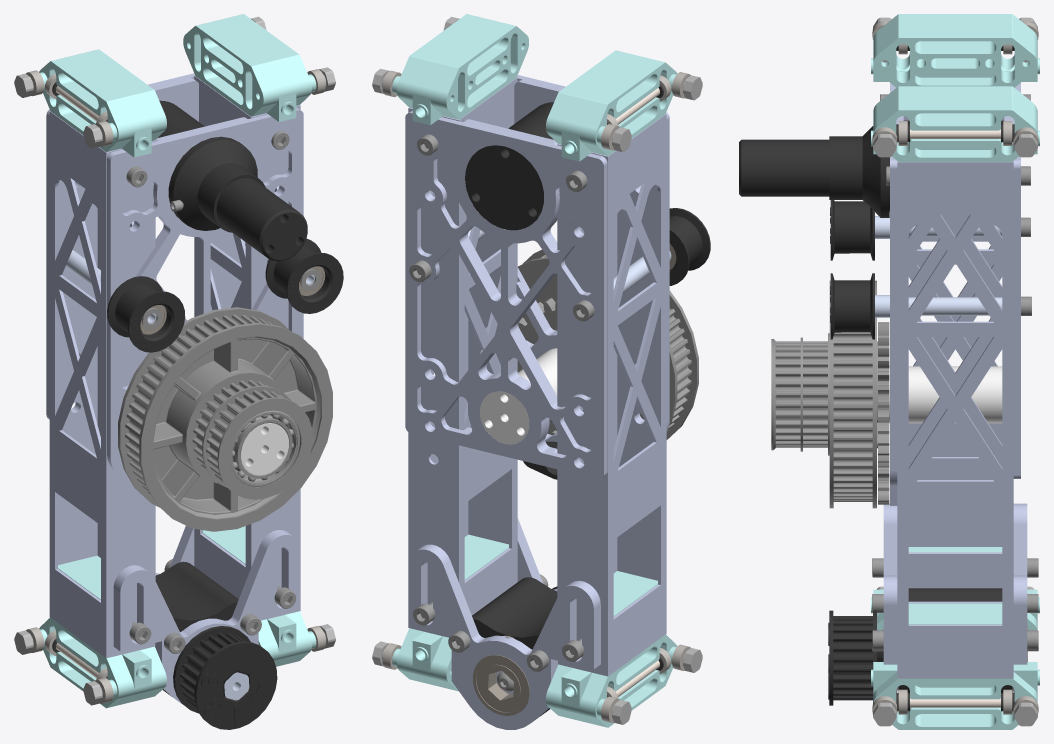
3 renders of one model, left to right at view 1: azimuth 30°, elevation 25°; view 2: azimuth 150°, elevation 25°; view 3: azimuth 270°, elevation 25°, orthographic. The views are drawn at different scales.
Visible parts, largest first — view 1: Componente1761:4__Corpo1, <1690-2025-4000 basepart>-<Cut-Extrude5>:1__Corpo5, <1690-2025-4000 basepart>-<Cut-Extrude41>:1__Corpo1, Componente1763:1__Corpo1, <1690-2025-4000 basepart>-<Boss-Extrude41>:1__Corpo1, <1690-2025-4000 basepart>-<Boss-Extrude42>:2__Corpo1 (×2), PATINS ELEVADOR RETO PADRÃO v3:1__Corpo1, PATINS ELEVADOR RETO PADRÃO v3:2__Corpo1, 1690-2025-4136:1__Corpo1, 1690-2025-4110:1__Corpo1 (×2), PATINS ELEVADOR RETO PADRÃO v3:4__Corpo1, <1690-2025-4000 basepart>-<Cut-Extrude42>:1__Corpo1 (+8 smaller); view 2: Componente1761:4__Corpo1, <1690-2025-4000 basepart>-<Cut-Extrude40>:1__Corpo1, Componente1763:1__Corpo1, <1690-2025-4000 basepart>-<Boss-Extrude42>:2__Corpo1 (×2), PATINS ELEVADOR RETO PADRÃO v3:1__Corpo1, PATINS ELEVADOR RETO PADRÃO v3:2__Corpo1, PATINS ELEVADOR RETO PADRÃO v3:4__Corpo1, <1690-2025-4000 basepart>-<Boss-Extrude41>:1__Corpo2, <1690-2025-4000 basepart>-<Cut-Extrude5>:1__Corpo5, <1690-2025-4000 basepart>-<Cut-Extrude41>:1__Corpo1, PATINS ELEVADOR RETO PADRÃO v3:3__Corpo1, <1690-2025-4000 basepart>-<Cut-Extrude42>:1__Corpo1 (+5 smaller); view 3: Componente1763:1__Corpo1, <1690-2025-4000 basepart>-<Cut-Extrude5>:1__Corpo5, PATINS ELEVADOR RETO PADRÃO v3:2__Corpo1, PATINS ELEVADOR RETO PADRÃO v3:1__Corpo1, <1690-2025-4000 basepart>-<Boss-Extrude41>:1__Corpo1, PATINS ELEVADOR RETO PADRÃO v3:3__Corpo1, Componente1761:4__Corpo1, 1690-2025-4110:1__Corpo1 (×2), <1690-2025-4000 basepart>-<Boss-Extrude42>:2__Corpo1 (×2), 1690-2025-4136:1__Corpo1, <1690-2025-4000 basepart>-<Cut-Extrude41>:1__Corpo1, <1690-2025-4000 basepart>-<Boss-Extrude34>:1__Corpo1 (+6 smaller).
Boxes of the visible parts, x1,y1,x2,y2 form: Componente1761:4__Corpo1: (49,111,155,658); <1690-2025-4000 basepart>-<Cut-Extrude5>:1__Corpo5: (118,307,332,531); <1690-2025-4000 basepart>-<Cut-Extrude41>:1__Corpo1: (107,107,303,480); Componente1763:1__Corpo1: (194,76,300,620); <1690-2025-4000 basepart>-<Boss-Extrude41>:1__Corpo1: (169,136,307,261); <1690-2025-4000 basepart>-<Boss-Extrude42>:2__Corpo1 (×2): (113,525,300,704); PATINS ELEVADOR RETO PADRÃO v3:1__Corpo1: (183,14,316,121); PATINS ELEVADOR RETO PADRÃO v3:2__Corpo1: (39,49,166,157); 1690-2025-4136:1__Corpo1: (173,626,277,729); 1690-2025-4110:1__Corpo1 (×2): (107,238,343,352); PATINS ELEVADOR RETO PADRÃO v3:4__Corpo1: (39,555,166,708); <1690-2025-4000 basepart>-<Cut-Extrude42>:1__Corpo1: (155,561,238,696); Componente1761:4__Corpo1: (557,114,666,676); <1690-2025-4000 basepart>-<Cut-Extrude40>:1__Corpo1: (405,110,607,479); Componente1763:1__Corpo1: (408,77,517,637); <1690-2025-4000 basepart>-<Boss-Extrude42>:2__Corpo1 (×2): (408,518,600,729); PATINS ELEVADOR RETO PADRÃO v3:1__Corpo1: (392,14,528,125); PATINS ELEVADOR RETO PADRÃO v3:2__Corpo1: (546,50,677,161); PATINS ELEVADOR RETO PADRÃO v3:4__Corpo1: (546,571,677,727); <1690-2025-4000 basepart>-<Boss-Extrude41>:1__Corpo2: (465,102,553,230); <1690-2025-4000 basepart>-<Cut-Extrude5>:1__Corpo5: (518,249,698,439); <1690-2025-4000 basepart>-<Cut-Extrude41>:1__Corpo1: (487,75,669,441); PATINS ELEVADOR RETO PADRÃO v3:3__Corpo1: (392,534,508,691); <1690-2025-4000 basepart>-<Cut-Extrude42>:1__Corpo1: (472,577,557,716); Componente1763:1__Corpo1: (897,161,1013,678); <1690-2025-4000 basepart>-<Cut-Extrude5>:1__Corpo5: (771,280,876,508); PATINS ELEVADOR RETO PADRÃO v3:2__Corpo1: (871,14,1039,87); PATINS ELEVADOR RETO PADRÃO v3:1__Corpo1: (871,86,1039,161); <1690-2025-4000 basepart>-<Boss-Extrude41>:1__Corpo1: (739,126,889,217); PATINS ELEVADOR RETO PADRÃO v3:3__Corpo1: (871,603,1039,729); Componente1761:4__Corpo1: (903,116,1004,588); 1690-2025-4110:1__Corpo1 (×2): (830,200,874,339); <1690-2025-4000 basepart>-<Boss-Extrude42>:2__Corpo1 (×2): (883,503,1027,692); 1690-2025-4136:1__Corpo1: (828,610,876,705); <1690-2025-4000 basepart>-<Cut-Extrude41>:1__Corpo1: (890,83,903,505); <1690-2025-4000 basepart>-<Boss-Extrude34>:1__Corpo1: (877,366,1002,423).
Bounding box in the file's own units: 0.1247 × 0.3095 × 0.132.
